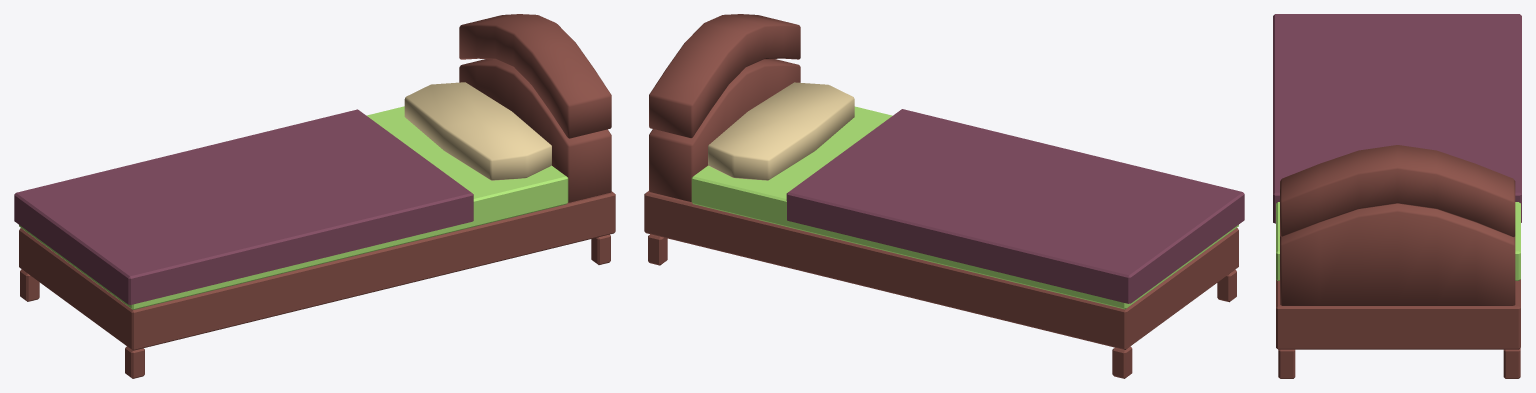
File: BedRoom_Bed.fbx
3 views of the same model, side by side, from view 1: azimuth 30°, elevation 25°; view 2: azimuth 150°, elevation 25°; view 3: azimuth 270°, elevation 25° (orthographic). The views are drawn at different scales.
Parts seen in each view (by area): view 1: Bed; view 2: Bed; view 3: Bed.
Boxes of the visible parts, left/top/right/bottom form: Bed: left=14, top=14, right=615, bottom=378; Bed: left=644, top=14, right=1244, bottom=378; Bed: left=1273, top=14, right=1521, bottom=378.
Size of the model in its own units: 146 by 56.77 by 59.99.
